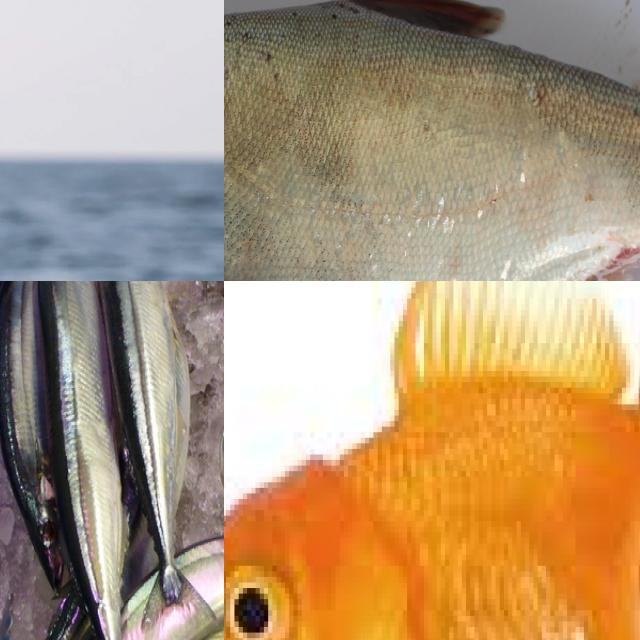fish: (224, 281, 640, 640), (224, 0, 640, 281), (0, 0, 224, 281)
